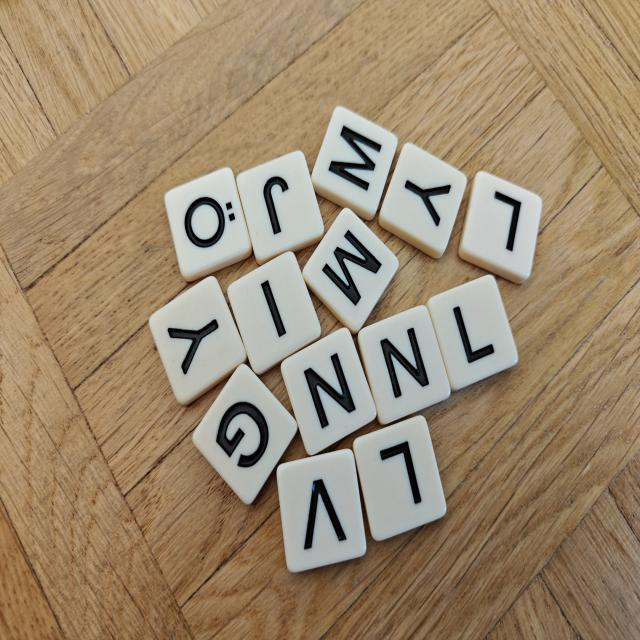g: (193, 364, 298, 504)
i: (228, 252, 320, 374)
j: (237, 151, 324, 265)
l: (353, 415, 446, 540), (427, 275, 518, 390), (458, 171, 542, 283)
m: (302, 208, 399, 334), (311, 106, 397, 220)
n: (281, 328, 376, 455), (358, 305, 450, 425)
o_dot: (165, 168, 252, 281)
v: (277, 449, 366, 572)
y: (149, 276, 246, 405), (379, 143, 467, 258)
